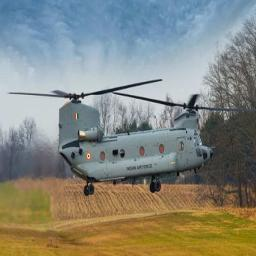helicopter: (8, 79, 236, 202)
